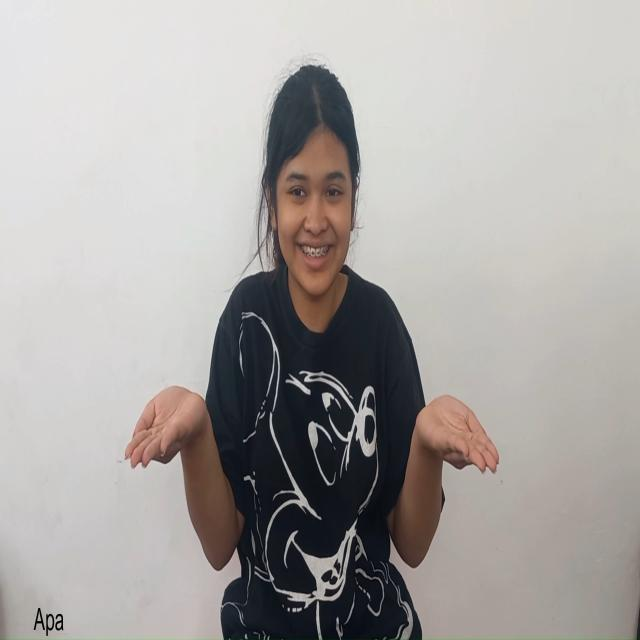Apa -BISINDO-: (121, 380, 504, 574)
